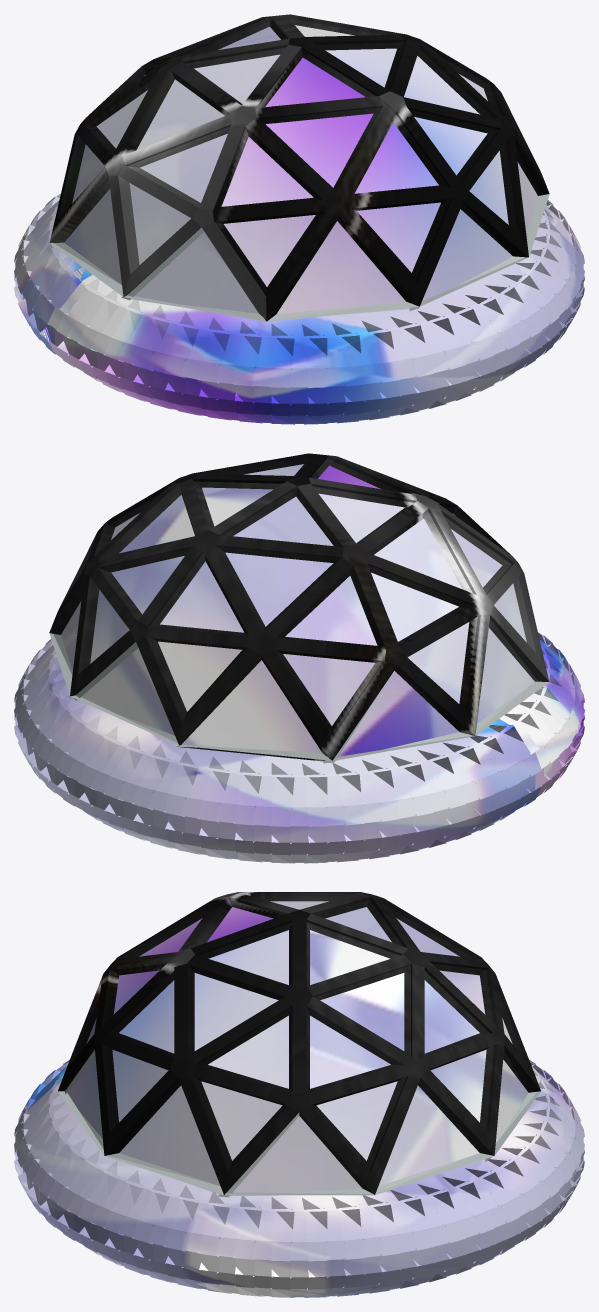
File: purpledome.glb
3 renders of one model, top to bottom at view 1: azimuth 30°, elevation 25°; view 2: azimuth 150°, elevation 25°; view 3: azimuth 270°, elevation 25°, orthographic.
Visible parts, largest first — view 1: Torus; view 2: Torus; view 3: Torus.
Part boxes in pixels (x1,y1,x2,y2): Torus: [14, 14, 584, 424]; Torus: [14, 453, 584, 863]; Torus: [14, 892, 584, 1297].
Size of the model in its own units: 3.06 by 1.74 by 3.06.
2 materials, 2 textured.
